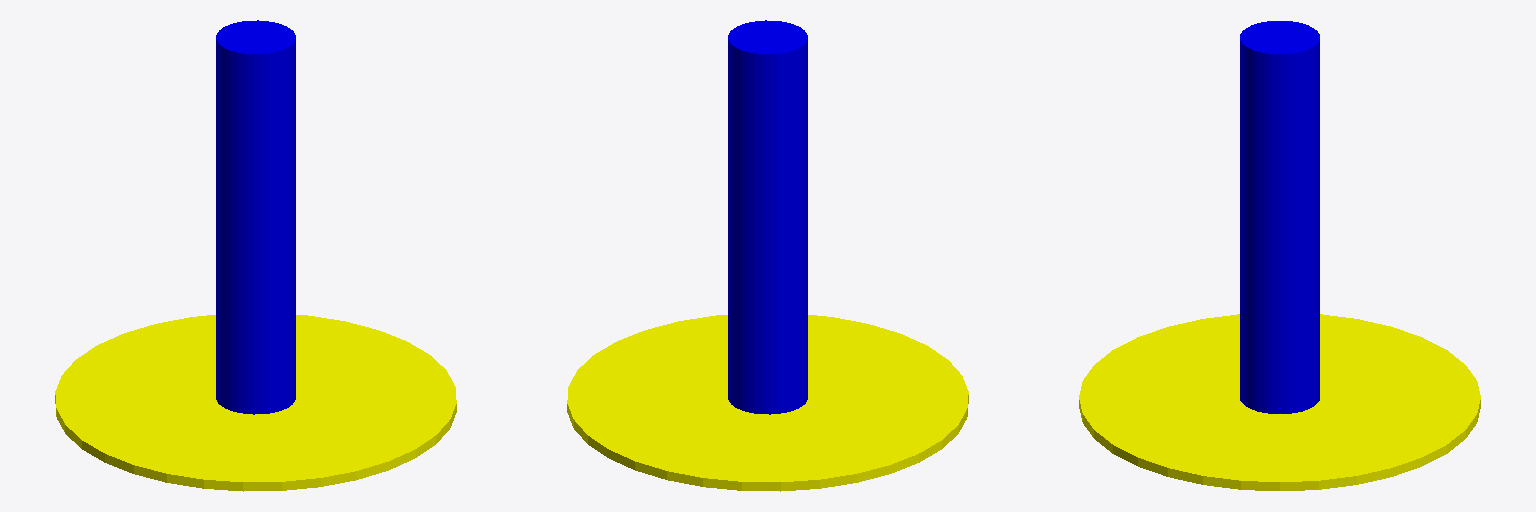
The robot description file, URDF, robot "simple_model":
<?xml version="1.0"?>
  <robot name="simple_model">

    <link name="base_link">
      <visual>
        <geometry>
          <cylinder length="0.01" radius="0.2"/>
          <!--mesh filename="package://model_tutorial/meshes/cube.dae" /-->
        </geometry>
        <origin rpy="0 0 0" xyz="0 0 0"/>
        <material name="yellow">
          <color rgba="1 1 0 1"/>
        </material>
      </visual>
      <collision>
        <geometry>
          <cylinder length="0.01" radius="0.2"/>
        </geometry>
        <origin rpy="0 0 0" xyz="0 0 0"/>
      </collision>
      <inertial>
        <mass value="1"/>
        <inertia ixx="0.5" ixy="0.0" ixz="0.0" iyy="0.5" iyz="0.0" izz="0.5"/>
      </inertial>
    </link>

    <joint name="arm_joint" type="revolute">
      <parent link="base_link"/>
      <child link="arm_link"/>
      <origin xyz="0 0 0"/>
      <axis xyz="1 0 0" />
      <limit effort="300" velocity="0.1" lower="-3.14" upper="3.14"/>
      <dynamics damping="50" friction="1"/>
    </joint>

    <link name="arm_link">
      <visual>
        <geometry>
          <cylinder length="0.4" radius="0.04"/>
        </geometry>
        <origin rpy="0 0 0" xyz="0 0 0.2"/>
        <material name="blue">
          <color rgba="0 0 1 1"/>
        </material>
      </visual>
      <collision>
        <geometry>
          <cylinder length="0.4" radius="0.04"/>
        </geometry>
        <origin rpy="0 0 0" xyz="0 0 0.2"/>
      </collision>
      <inertial>
        <mass value="1"/>
        <inertia ixx="0.5" ixy="0.0" ixz="0.0" iyy="0.5" iyz="0.0" izz="0.5"/>
      </inertial>
    </link>

  </robot>

--- What the picture shows (computed from the rendered views, not written in the file) ---
Views: 3 orthographic renders of the robot side by side, from view 1: azimuth 30°, elevation 25°; view 2: azimuth 150°, elevation 25°; view 3: azimuth 270°, elevation 25°.
Model simple_model with 2 links and 1 joints (1 revolute), rooted at base_link, posed all joints at 0.
Visible links, largest first — view 1: base_link, arm_link; view 2: base_link, arm_link; view 3: base_link, arm_link.
Link boxes in pixels (left/top/right/bottom): base_link: left=55, top=315, right=456, bottom=491; arm_link: left=216, top=20, right=295, bottom=414; base_link: left=567, top=315, right=968, bottom=491; arm_link: left=728, top=20, right=807, bottom=414; base_link: left=1079, top=314, right=1480, bottom=490; arm_link: left=1240, top=21, right=1319, bottom=413.
Size in the robot's own frame: 0.4 by 0.4 by 0.405 metres.
Geometry: primitives only (box / cylinder / sphere), no mesh files.